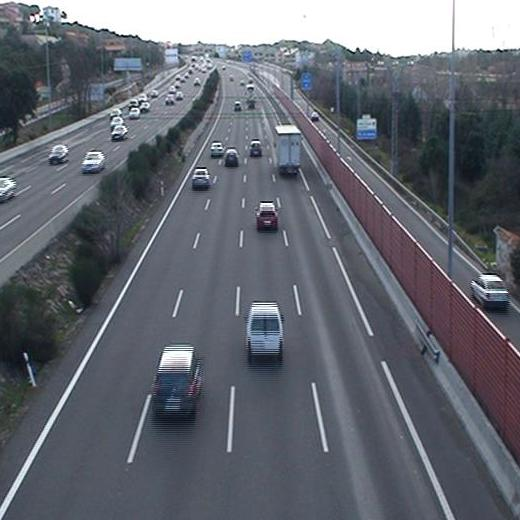car: (152, 342, 205, 416), (252, 199, 282, 231), (189, 166, 212, 187), (223, 148, 242, 165), (208, 139, 225, 158), (249, 140, 264, 158), (232, 100, 244, 113)
truck: (271, 121, 305, 178)
van: (242, 300, 285, 359)
